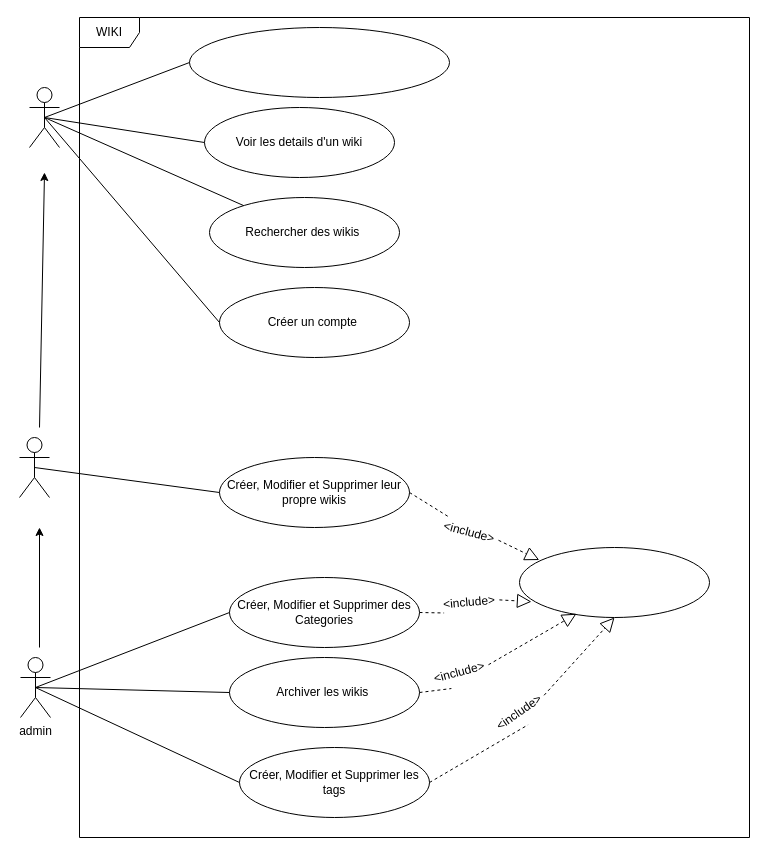
The diagram is 767 pixels wide and 855 high, and some of its shapes have lost their labels. Here are the shapes that lost their labels. From the top down, the centre of each, then its label:
At pixel 319 62: "Voir les derniers wikis ajoutés,".
At pixel 44 117: "visiteur".
At pixel 34 467: "auteur".
At pixel 614 582: "authentification".
